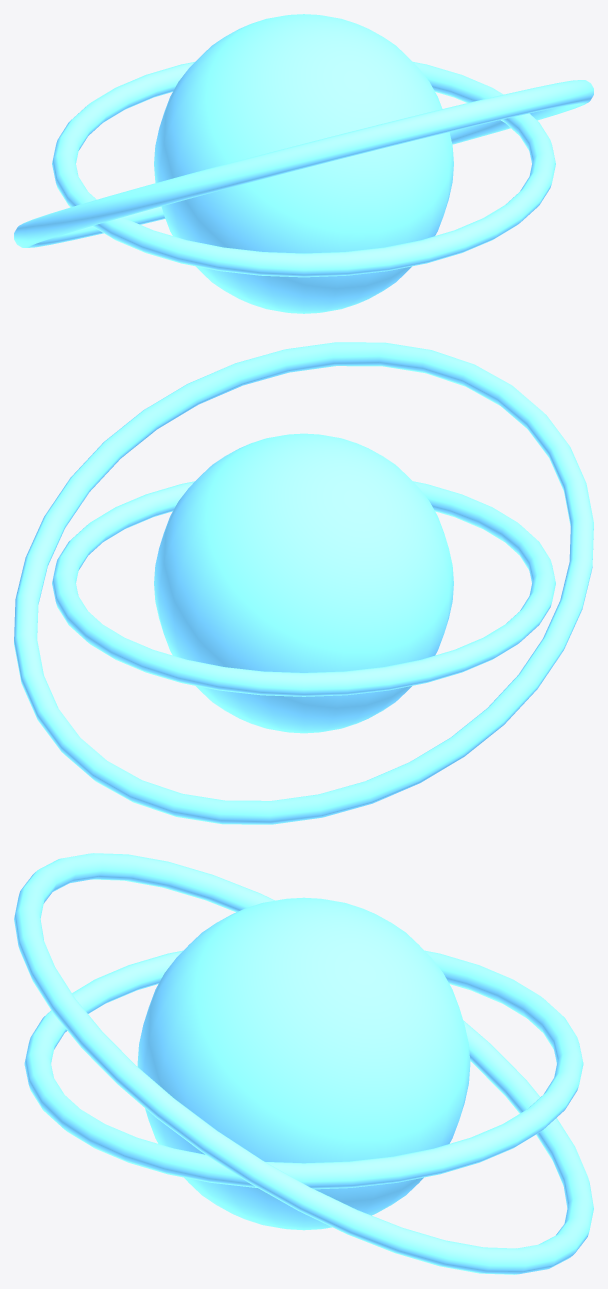
File: quantum_core.glb
3 renders of one model, top to bottom at view 1: azimuth 30°, elevation 25°; view 2: azimuth 150°, elevation 25°; view 3: azimuth 270°, elevation 25°, orthographic. The views are drawn at different scales.
Parts seen in each view (by area): view 1: QuantumCoreNode; view 2: QuantumCoreNode; view 3: QuantumCoreNode.
Boxes of the visible parts, left/top/right/bottom form: QuantumCoreNode: left=14, top=14, right=593, bottom=313; QuantumCoreNode: left=14, top=342, right=593, bottom=824; QuantumCoreNode: left=14, top=853, right=593, bottom=1274.
Bounding box in the file's own units: 4 × 2.08 × 3.49.
